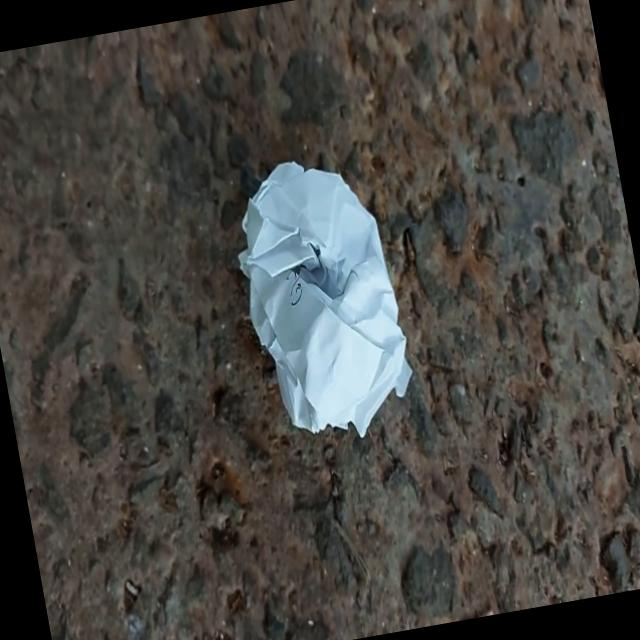paper: (208, 126, 438, 457)
